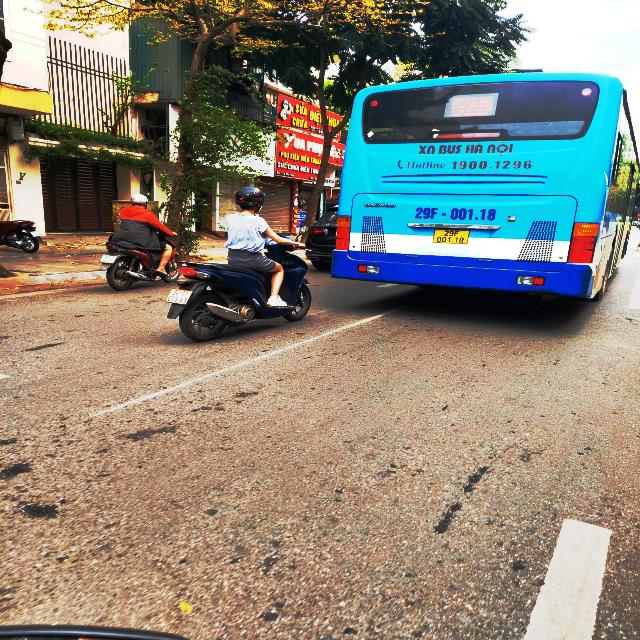license_plate: (430, 228, 474, 247), (163, 288, 196, 308), (99, 255, 120, 266)
